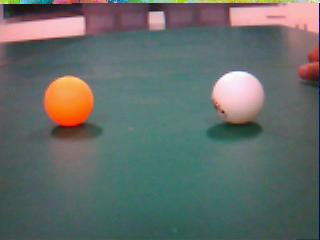oball: (44, 75, 93, 127)
